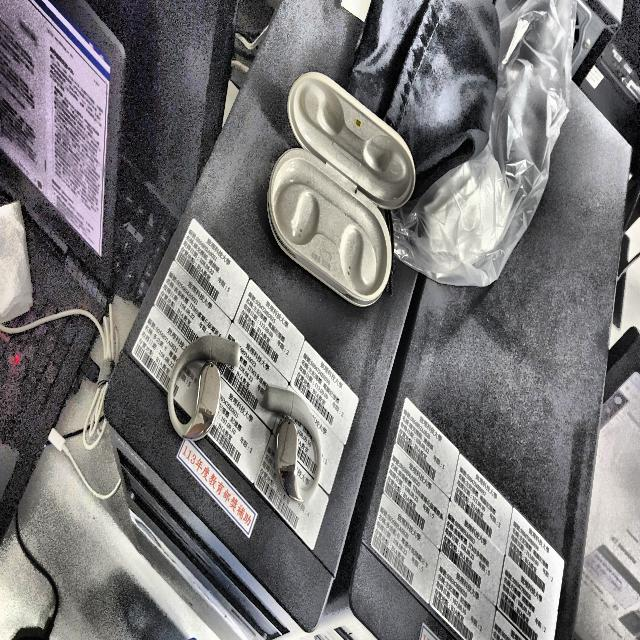Bluetooth headphones: (268, 72, 416, 306), (168, 335, 240, 440), (262, 386, 321, 502)
Screen: (0, 0, 125, 287)
